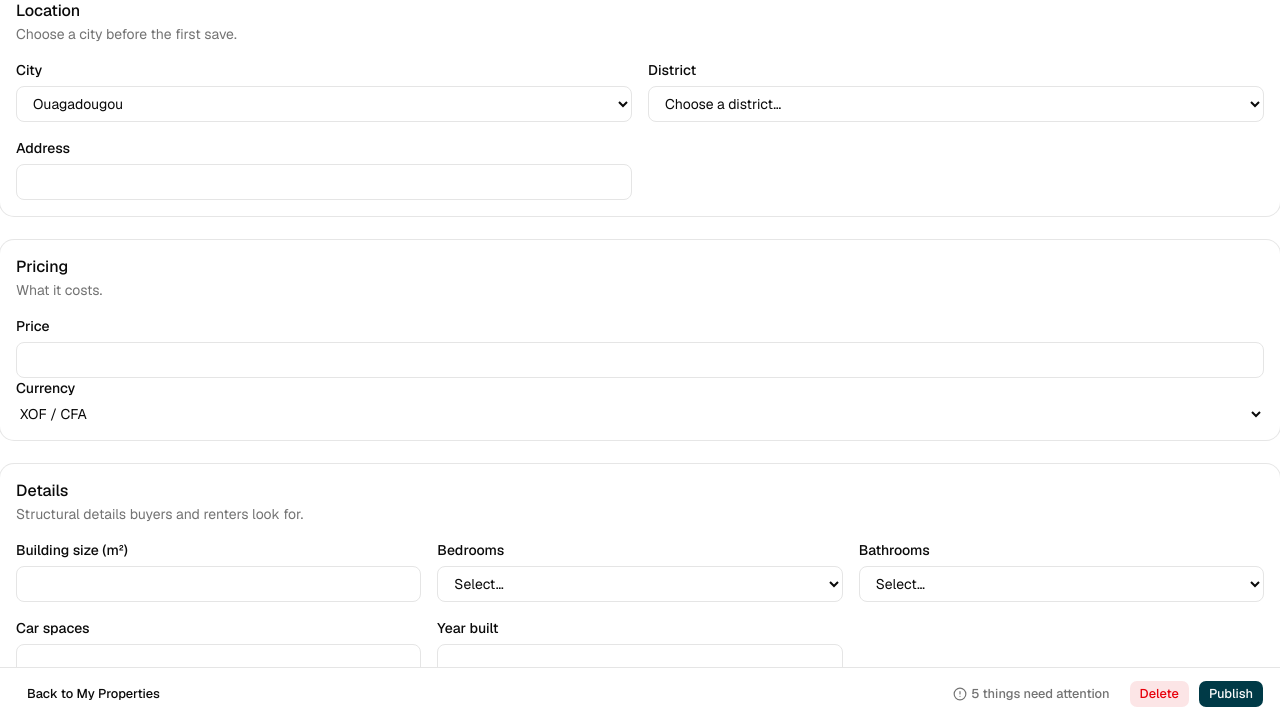
Test case: Property Editor (ListingForm, all flows composed) › shows the autosave error status and a working Retry action
(page scrolled)
Type "1" into the number field labelled "Price". click: (640, 360)
box: [16,342,1264,378]
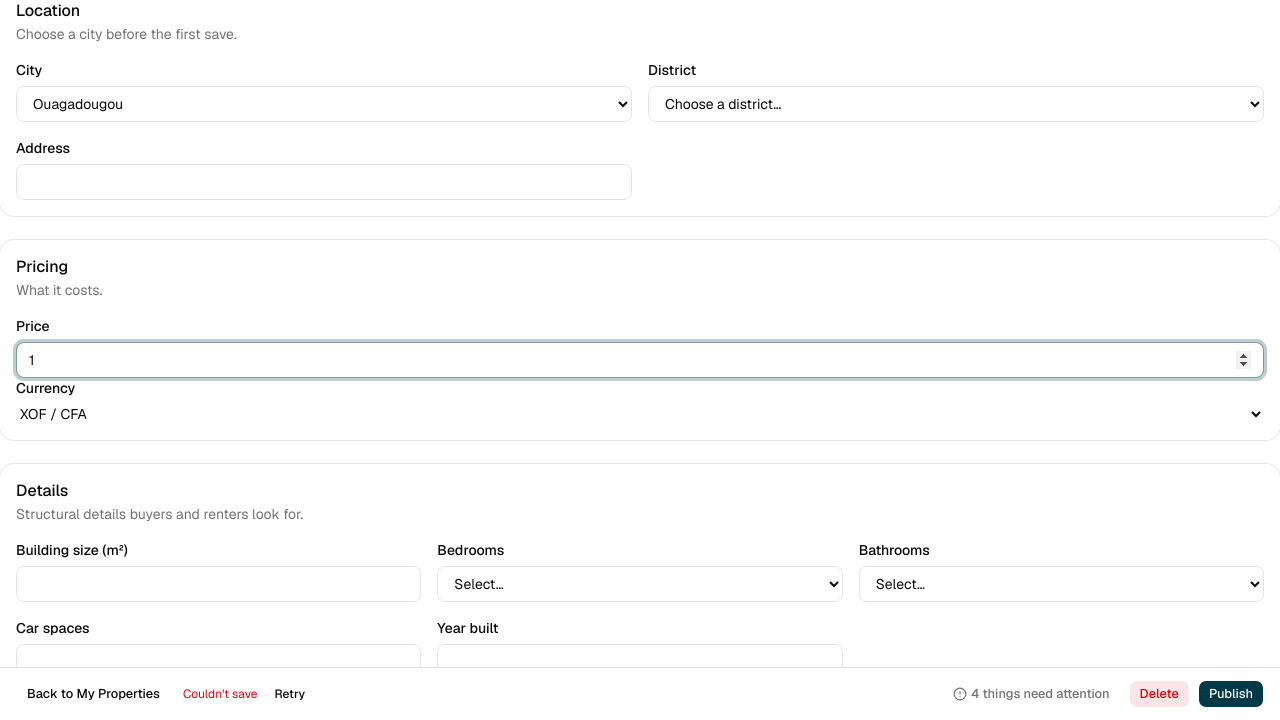
Check: the text "Couldn't save" is shown, box [183,686,258,702]
Click the button "Retry". click: (290, 694)
box: [266,682,314,706]
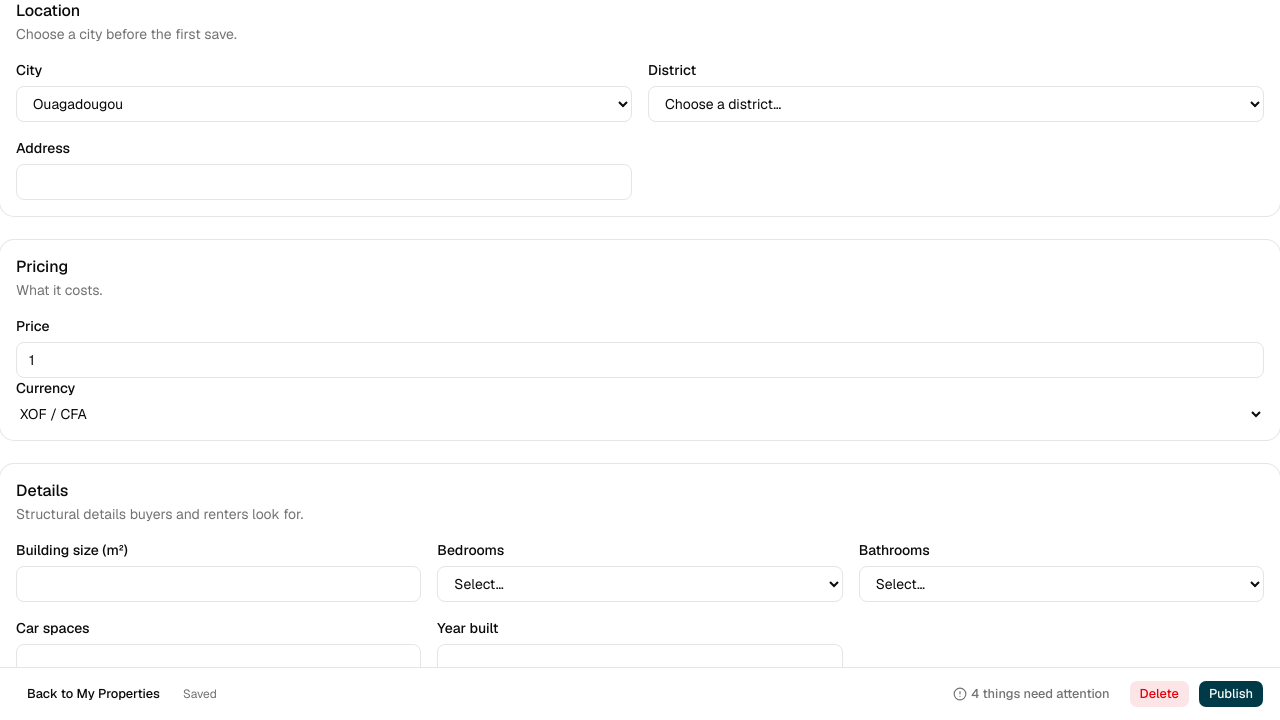
Check: the text "Saved" is shown, box [183,686,217,702]
